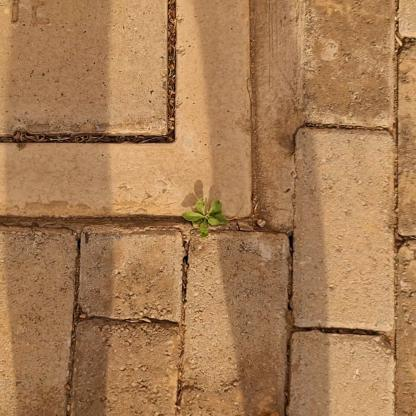Weeds: (183, 198, 230, 238)
